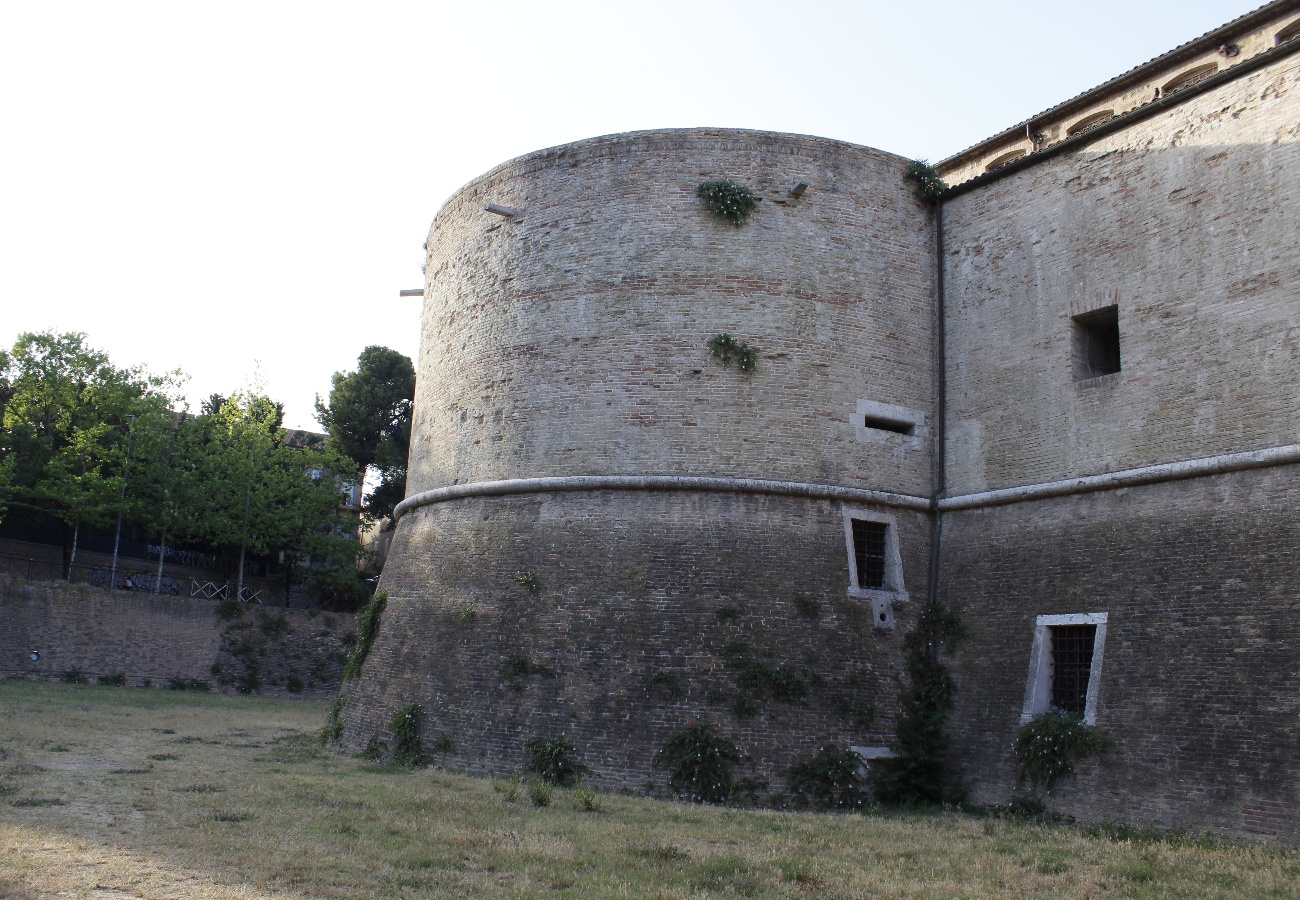Rocca Costanza: (327, 131, 1297, 845)
